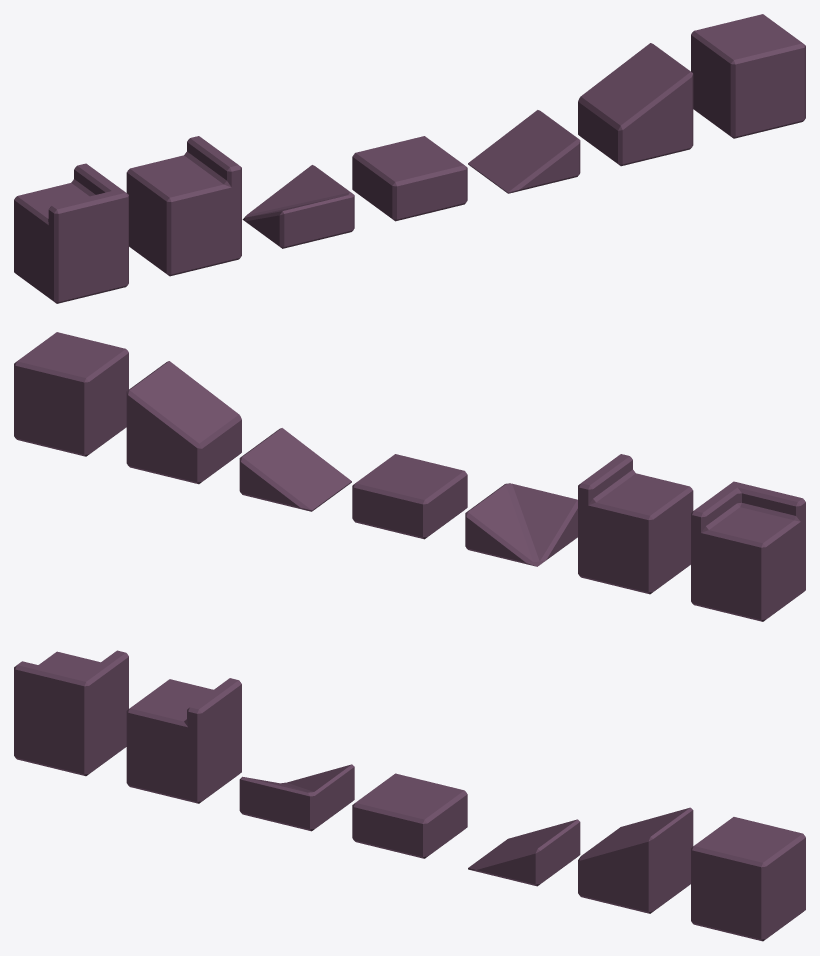
Rendered from world_blocks_v1.glb.
3 renders of one model, top to bottom at view 1: azimuth 30°, elevation 25°; view 2: azimuth 150°, elevation 25°; view 3: azimuth 330°, elevation 25°, orthographic.
Parts seen in each view (by area): view 1: BlockWallCorner, BlockWall, Block, RampTop, BlockShort, RampBottom, RampLowerCorner; view 2: BlockWallCorner, BlockWall, Block, RampTop, BlockShort, RampLowerCorner, RampBottom; view 3: BlockWallCorner, BlockWall, Block, RampTop, BlockShort, RampLowerCorner, RampBottom.
Boxes of the visible parts, bbox=[...] form: BlockWallCorner: bbox=[14, 163, 128, 303]; BlockWall: bbox=[126, 136, 241, 276]; Block: bbox=[691, 14, 805, 138]; RampTop: bbox=[578, 43, 693, 166]; BlockShort: bbox=[352, 136, 467, 221]; RampBottom: bbox=[468, 110, 580, 193]; RampLowerCorner: bbox=[242, 165, 354, 248]; BlockWallCorner: bbox=[691, 481, 805, 621]; BlockWall: bbox=[578, 454, 693, 594]; Block: bbox=[14, 332, 128, 456]; RampTop: bbox=[126, 361, 241, 484]; BlockShort: bbox=[352, 454, 467, 539]; RampLowerCorner: bbox=[465, 483, 577, 566]; RampBottom: bbox=[239, 428, 351, 511]; BlockWallCorner: bbox=[14, 650, 128, 776]; BlockWall: bbox=[126, 678, 241, 803]; Block: bbox=[691, 817, 805, 941]; RampTop: bbox=[578, 807, 693, 913]; BlockShort: bbox=[352, 773, 467, 858]; RampLowerCorner: bbox=[239, 764, 354, 831]; RampBottom: bbox=[468, 819, 580, 886].
Size of what is drawn, in the model's own units: 20 by 2.4 by 2.
